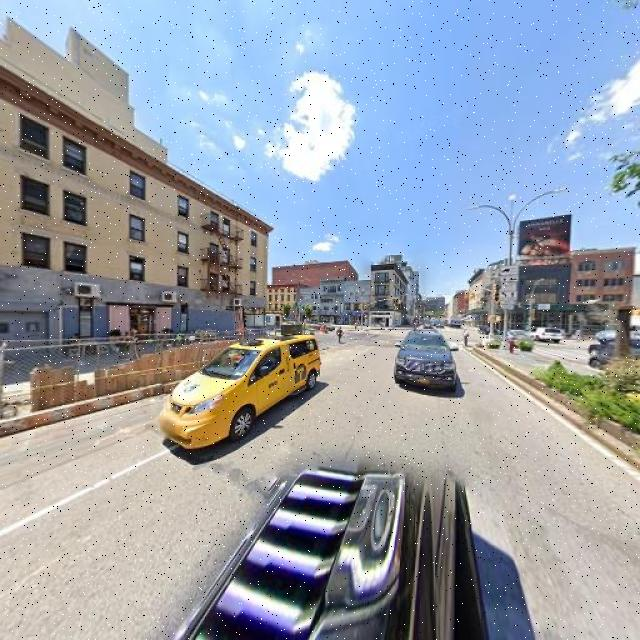Building: (1, 79, 267, 367), (274, 284, 320, 330), (372, 269, 394, 329), (323, 279, 344, 329), (347, 282, 369, 329)
